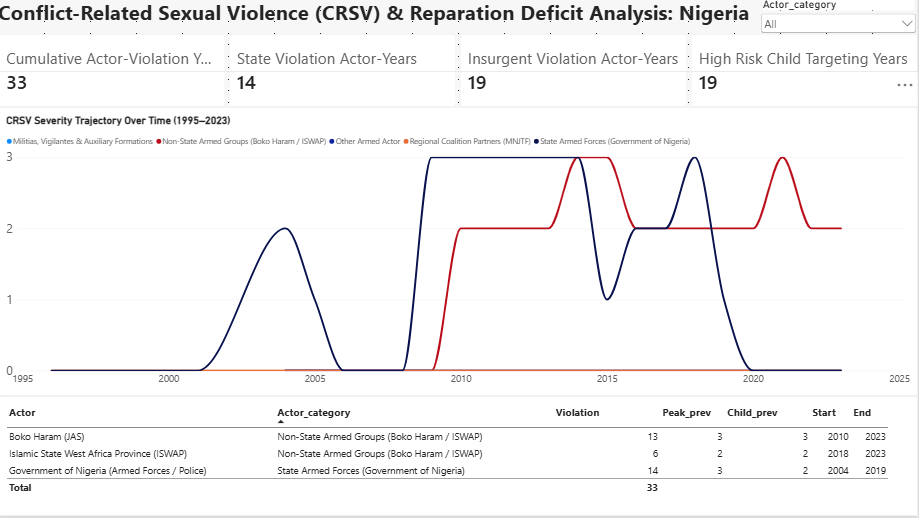

The dashboard page shown, as its layout file describes it:
{"tool":"powerbi","page":{"name":"Page 1","canvas":[1920,1080],"ordinal":0},"visuals":[{"type":"cardVisual","fields":{"Data":["CRSV_Nigeria_Actor_Profile_Summary.Total Violation Actor-Years","CRSV_Nigeria_Actor_Profile_Summary.State Violation Actor-Years","CRSV_Nigeria_Actor_Profile_Summary.Insurgent Violation Actor-Years","CRSV_Nigeria_Actor_Profile_Summary.High Risk Child Targeting Years"]},"box":[0,75.1,1920,152.3],"z":0},{"type":"slicer","fields":{"Values":["CRSV_Nigeria_Actor_Profile_Summary.actor_category"]},"box":[1588.2,0,331.8,75.1],"z":1},{"type":"lineChart","title":"CRSV Severity Trajectory Over Time (1995–2023)","fields":{"Category":["CRSV_Nigeria_Clean_Analytical_Dataset.year"],"Series":["CRSV_Nigeria_Clean_Analytical_Dataset.actor_category"],"Y":["Max(CRSV_Nigeria_Clean_Analytical_Dataset.max_prevalence)"]},"box":[0,227.5,1920,603.1],"z":2},{"type":"tableEx","fields":{"Values":["CRSV_Nigeria_Actor_Profile_Summary.actor","CRSV_Nigeria_Actor_Profile_Summary.actor_category","Sum(CRSV_Nigeria_Actor_Profile_Summary.total_violation_years)","CRSV_Nigeria_Actor_Profile_Summary.peak_prevalence","CRSV_Nigeria_Actor_Profile_Summary.peak_child_prevalence","CRSV_Nigeria_Actor_Profile_Summary.start_year","CRSV_Nigeria_Actor_Profile_Summary.end_year"]},"box":[0,830.6,1920,250.4],"z":4},{"type":"textbox","box":[0,0,1920,154.4],"z":5}]}

Visuals, with their boxes in screenshot pixels (x1, y1, x2, y2), scaled from the page's 1920x1080 canvas onto the 919x518 screenshot:
cardVisual - CRSV_Nigeria_Actor_Profile_Summary.Total Violation Actor-Years x CRSV_Nigeria_Actor_Profile_Summary.State Violation Actor-Years: box(0, 36, 918, 109)
slicer - CRSV_Nigeria_Actor_Profile_Summary.actor_category: box(760, 0, 918, 36)
"CRSV Severity Trajectory Over Time (1995–2023)" lineChart: box(0, 109, 918, 398)
tableEx - CRSV_Nigeria_Actor_Profile_Summary.actor x CRSV_Nigeria_Actor_Profile_Summary.actor_category: box(0, 398, 918, 517)
textbox: box(0, 0, 918, 74)
